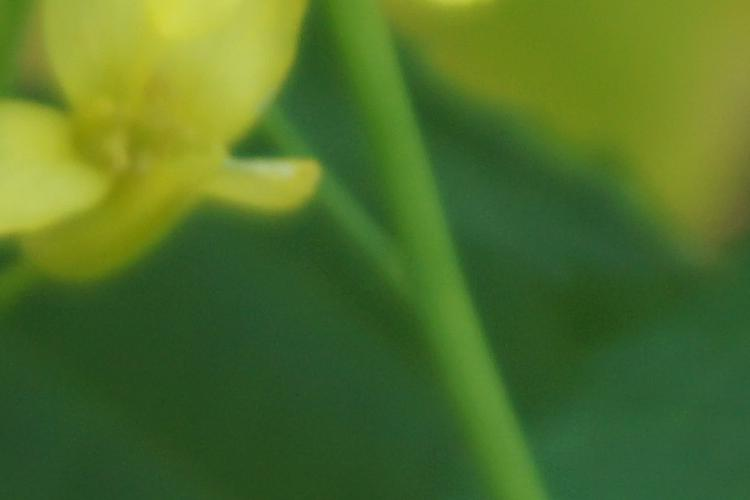yellow: (1, 2, 327, 282)
